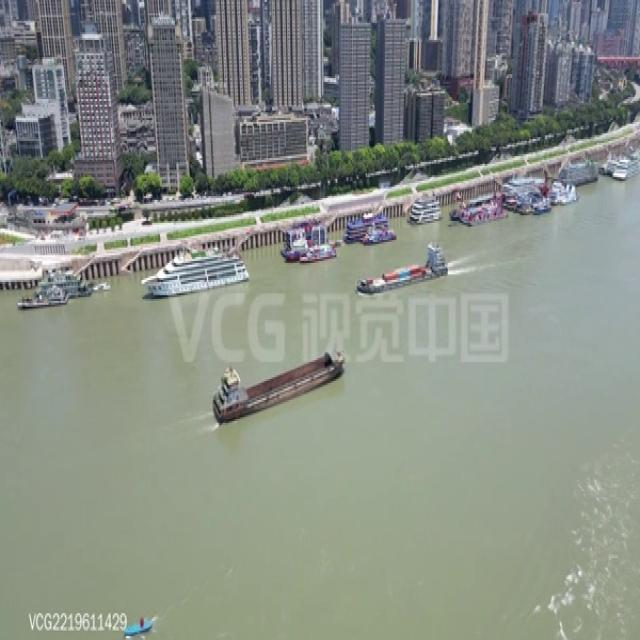cargoship: (209, 341, 349, 403), (352, 242, 472, 304)
passenger ship: (138, 240, 262, 287), (10, 278, 98, 320), (262, 209, 326, 260), (448, 168, 496, 232), (503, 152, 541, 221), (335, 204, 391, 244), (399, 184, 438, 220)
